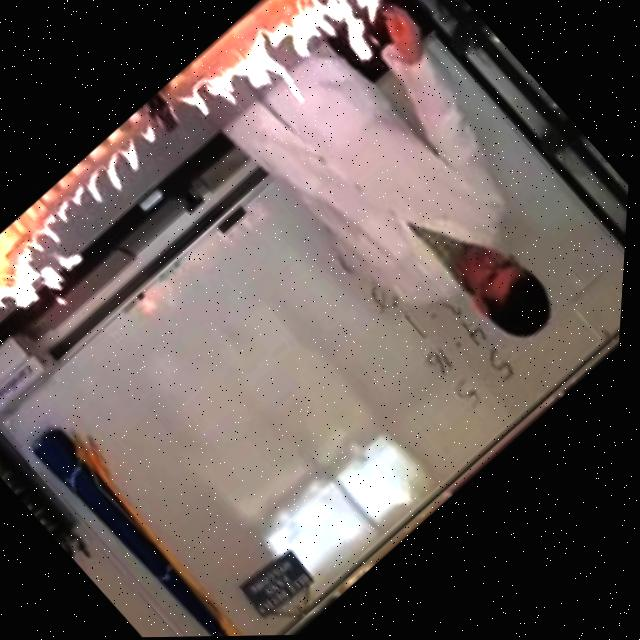Smoke: (170, 0, 434, 182), (0, 207, 112, 348)
